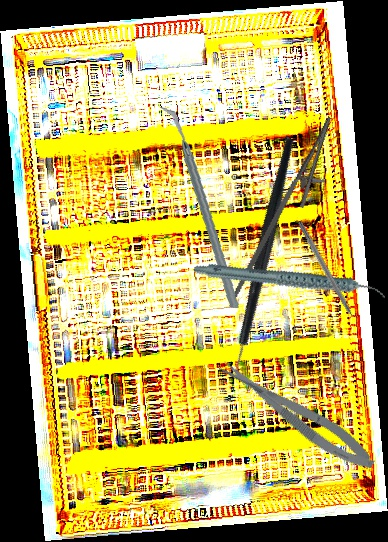Chopper: (158, 134, 376, 389), (138, 106, 262, 309)
Handpiece: (192, 226, 388, 338)
Hook Surgical: (295, 220, 362, 331)
Micro Scissor: (214, 349, 381, 480)
Needle Holder: (231, 107, 347, 313)
